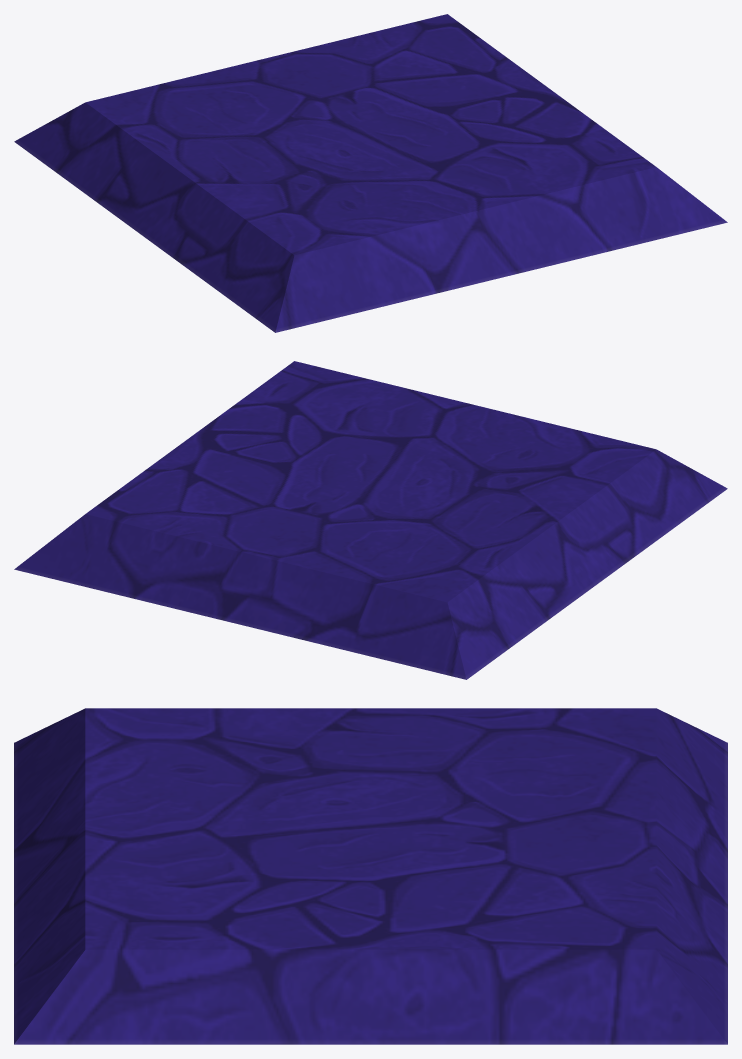
The model's file is BlueTile.fbx.
The picture shows the model from 3 angles, top to bottom: view 1: azimuth 30°, elevation 25°; view 2: azimuth 150°, elevation 25°; view 3: azimuth 270°, elevation 25°; orthographic projection. The views are drawn at different scales.
Parts seen in each view (by area): view 1: Cube; view 2: Cube; view 3: Cube.
Part boxes in pixels (x1,y1,x2,y2): Cube: [14, 14, 727, 332]; Cube: [14, 361, 727, 679]; Cube: [14, 708, 727, 1044].
Bounding box in the file's own units: 100 × 10 × 100.
Materials: 1 (1 with a texture image).
